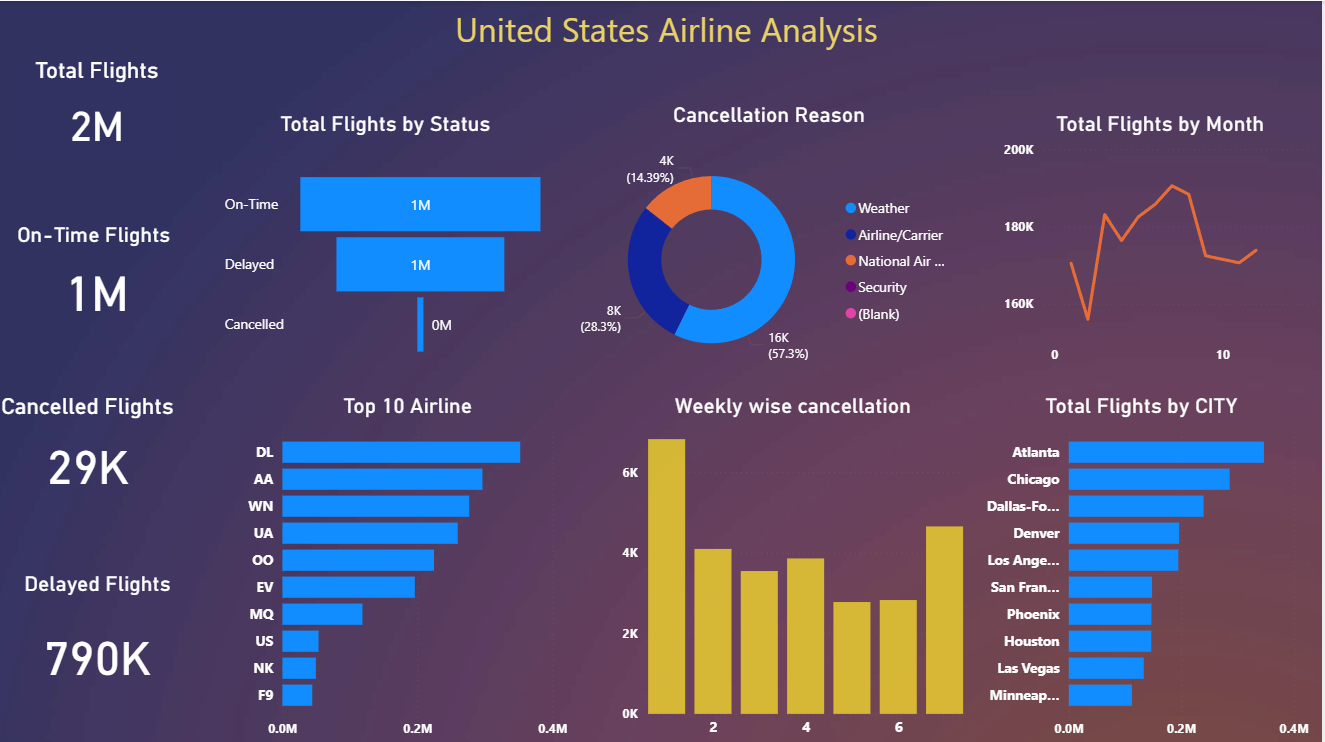

What the dashboard file says about the page in this screenshot:
{"tool":"powerbi","page":{"name":"Page 1","canvas":[1280,720],"ordinal":0},"visuals":[{"type":"card","title":"Total Flights","fields":{"Values":["flights.Total Flights"]},"box":[15.1,54.9,163.3,102.9],"z":0},{"type":"card","title":"On-Time Flights","fields":{"Values":["flights.On-time Flights"]},"box":[15.1,214.1,163.3,104.3],"z":1000},{"type":"card","title":"Cancelled Flights","fields":{"Values":["Sum(flights.Cancelled Flights)"]},"box":[0,378.7,178.4,108.4],"z":2000},{"type":"card","title":"Delayed Flights","fields":{"Values":["flights.Delayed Flights"]},"box":[15.1,550.3,164.7,135.8],"z":3000},{"type":"lineChart","title":"Total Flights by Month","fields":{"Category":["flights.MONTH"],"Y":["flights.Total Flights"]},"box":[967.6,106.2,312.5,253.4],"z":4000},{"type":"clusteredBarChart","fields":{"Category":["airports.CITY"],"Y":["flights.Total Flights"]},"box":[938.6,378.8,334.2,341.4],"z":5000},{"type":"clusteredBarChart","title":"Top 10 Airline ","fields":{"Y":["flights.Total Flights"],"Category":["flights.AIRLINE"]},"box":[237.7,378.8,319.7,341.4],"z":6000},{"type":"donutChart","title":"Cancellation Reason","fields":{"Y":["Sum(flights.Cancelled Flights)"],"Category":["cancellation_codes.Column2"]},"box":[557.4,97.7,377.6,281.1],"z":7000},{"type":"columnChart","title":"Weekly wise cancellation","fields":{"Category":["flights.DAY_OF_WEEK"],"Y":["Sum(flights.Cancelled Flights)"]},"box":[599.6,378.8,339,341.4],"z":8000},{"type":"funnel","fields":{"Category":["flights.Status"],"Y":["flights.Total Flights"]},"box":[215.4,105.7,319.7,273.1],"z":9000},{"type":"textbox","box":[264.2,0,766.1,54.3],"z":9001}]}

Visuals, with their boxes in screenshot pixels (x1, y1, x2, y2), scaled from the page's 1280x720 canvas onto the 1325x742 screenshot:
"Total Flights" card: [left=16, top=57, right=185, bottom=163]
"On-Time Flights" card: [left=16, top=221, right=185, bottom=328]
"Cancelled Flights" card: [left=0, top=390, right=185, bottom=502]
"Delayed Flights" card: [left=16, top=567, right=186, bottom=707]
"Total Flights by Month" lineChart: [left=1002, top=109, right=1324, bottom=371]
clusteredBarChart - airports.CITY x flights.Total Flights: [left=972, top=390, right=1318, bottom=741]
"Top 10 Airline " clusteredBarChart: [left=246, top=390, right=577, bottom=741]
"Cancellation Reason" donutChart: [left=577, top=101, right=968, bottom=390]
"Weekly wise cancellation" columnChart: [left=621, top=390, right=972, bottom=741]
funnel - flights.Status x flights.Total Flights: [left=223, top=109, right=554, bottom=390]
textbox: [left=273, top=0, right=1067, bottom=56]
